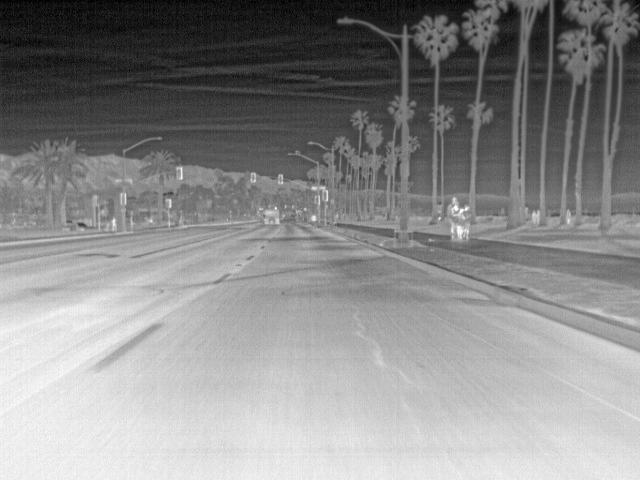car: (260, 210, 280, 225)
person: (446, 194, 459, 242), (457, 205, 471, 243)
